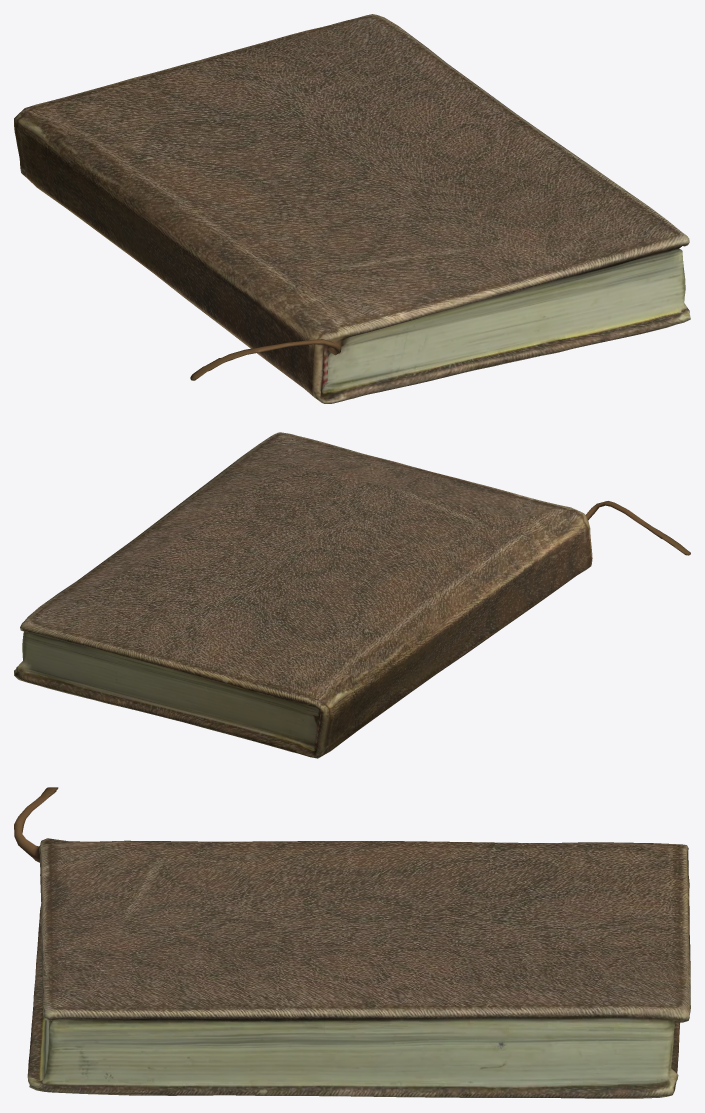
The model's file is item_notebook.glb.
The picture shows the model from 3 angles, top to bottom: view 1: azimuth 30°, elevation 25°; view 2: azimuth 150°, elevation 25°; view 3: azimuth 270°, elevation 25°; orthographic projection. The views are drawn at different scales.
Visible parts, largest first — view 1: Object_2; view 2: Object_2; view 3: Object_2.
Boxes of the visible parts, box(x1,y1,x2,y2) form: Object_2: box(14, 14, 690, 403); Object_2: box(14, 432, 690, 758); Object_2: box(14, 787, 690, 1098).
Bounding box in the file's own units: 18.24 × 3.23 × 20.31.
1 material, 1 textured.
